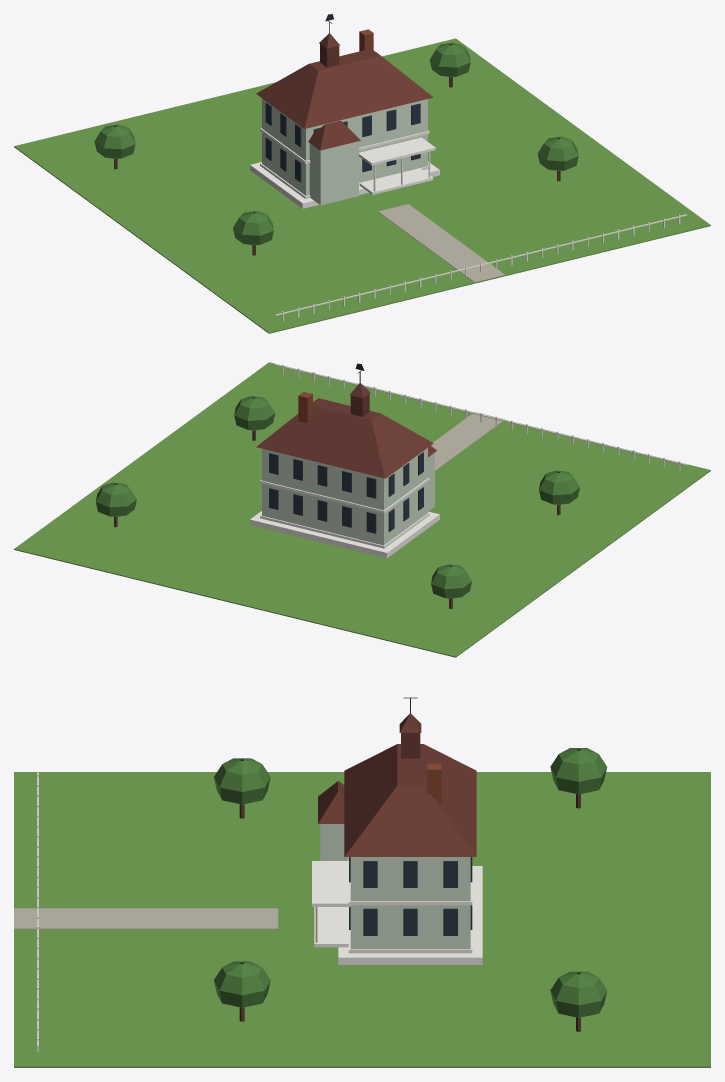
The model's file is western_house.glb.
3 renders of one model, top to bottom at view 1: azimuth 30°, elevation 25°; view 2: azimuth 150°, elevation 25°; view 3: azimuth 270°, elevation 25°, orthographic. The views are drawn at different scales.
Parts seen in each view (by area): view 1: Western_static; view 2: Western_static; view 3: Western_static.
Boxes of the visible parts, box(x1,y1,x2,y2) form: Western_static: box(14, 22, 710, 333); Western_static: box(14, 362, 710, 657); Western_static: box(14, 698, 710, 1067).
Bounding box in the file's own units: 58 × 20.5 × 58.
